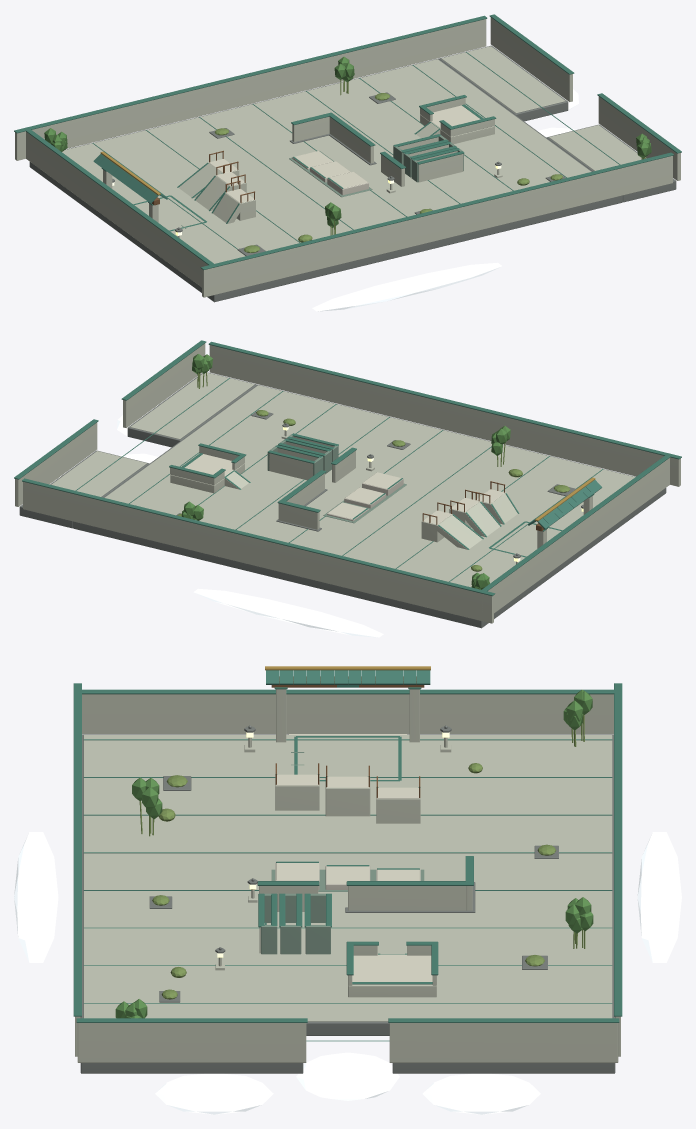
The model's file is pre_surface_clearance_ground_contact_course.glb.
3 renders of one model, top to bottom at view 1: azimuth 30°, elevation 25°; view 2: azimuth 150°, elevation 25°; view 3: azimuth 270°, elevation 25°, orthographic. The views are drawn at different scales.
Parts seen in each view (by area): view 1: ground_ground_main_top, wall_south, wall_north, ground_ground_main, wall_west, ground_ground_east_n_top, mist_04, wall_east_n, ground_ground_east_s_top, wall_south_cap, wall_north_cap, wall_east_s (+14 smaller); view 2: ground_ground_main_top, wall_north, wall_south, ground_ground_main, wall_west, ground_ground_east_s_top, mist_03, ground_ground_east_n_top, wall_east_s, wall_north_cap, wall_south_cap, wall_east_n (+14 smaller); view 3: ground_ground_main_top, wall_west, wall_east_n, wall_east_s, mist_03, mist_04, mist_00, mist_01, mist_02, wall_west_cap, wall_north_cap, wall_south_cap (+20 smaller).
Part boxes in pixels (bbox=[...]): ground_ground_main_top: bbox=[62, 59, 591, 263]; wall_south: bbox=[202, 156, 672, 297]; wall_north: bbox=[15, 19, 486, 160]; ground_ground_main: bbox=[29, 58, 622, 302]; wall_west: bbox=[26, 132, 214, 287]; ground_ground_east_n_top: bbox=[441, 46, 565, 113]; mist_04: bbox=[312, 262, 502, 311]; wall_east_n: bbox=[490, 17, 572, 101]; ground_ground_east_s_top: bbox=[549, 125, 641, 170]; wall_south_cap: bbox=[200, 152, 673, 270]; wall_north_cap: bbox=[14, 15, 487, 133]; wall_east_s: bbox=[598, 96, 680, 180]; ground_ground_main_top: bbox=[104, 385, 635, 587]; wall_north: bbox=[23, 482, 493, 623]; wall_south: bbox=[209, 345, 680, 486]; ground_ground_main: bbox=[73, 384, 666, 628]; wall_west: bbox=[480, 458, 669, 613]; ground_ground_east_s_top: bbox=[130, 372, 254, 439]; mist_03: bbox=[193, 588, 383, 637]; ground_ground_east_n_top: bbox=[51, 451, 146, 496]; wall_east_s: bbox=[123, 343, 205, 427]; wall_north_cap: bbox=[22, 478, 495, 596]; wall_south_cap: bbox=[208, 341, 681, 459]; wall_east_n: bbox=[15, 422, 97, 506]; ground_ground_main_top: bbox=[83, 735, 612, 1021]; wall_west: bbox=[82, 694, 613, 734]; wall_east_n: bbox=[389, 1023, 618, 1062]; wall_east_s: bbox=[77, 1023, 306, 1062]; mist_03: bbox=[637, 832, 681, 962]; mist_04: bbox=[14, 832, 58, 962]; mist_00: bbox=[296, 1052, 399, 1100]; mist_01: bbox=[422, 1073, 540, 1114]; mist_02: bbox=[155, 1073, 273, 1114]; wall_west_cap: bbox=[74, 689, 621, 694]; wall_north_cap: bbox=[614, 683, 622, 1016]; wall_south_cap: bbox=[73, 683, 81, 1016].
Size of the model in its own units: 57.33 by 8.91 by 45.
